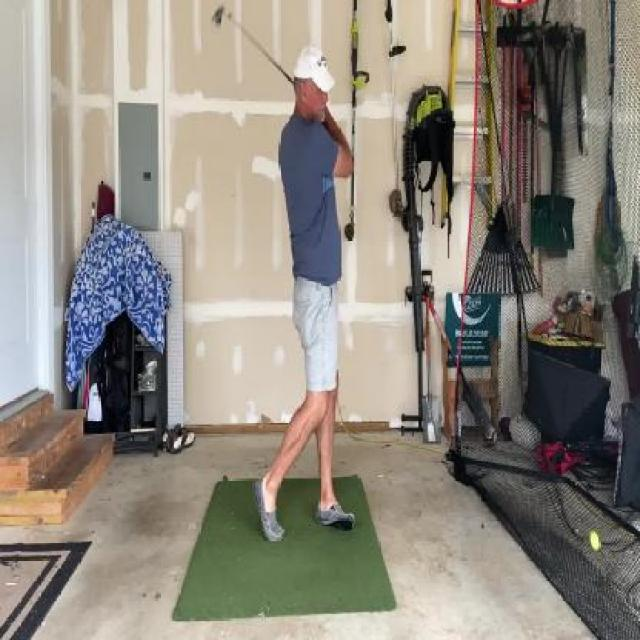club head: (210, 2, 232, 30)
